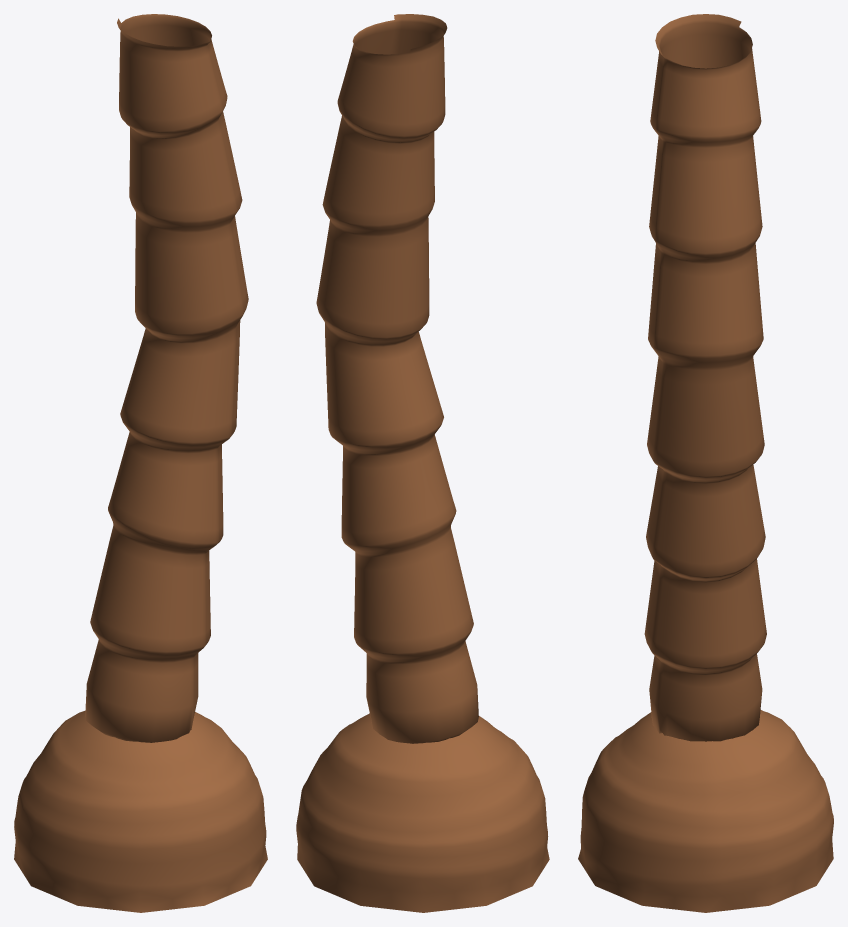
Rendered from basePalma.obj.
The picture shows the model from 3 angles, left to right: view 1: azimuth 30°, elevation 25°; view 2: azimuth 150°, elevation 25°; view 3: azimuth 270°, elevation 25°; orthographic projection.
Bounding box in the file's own units: 4.75 × 17.11 × 4.74.
1 material, 1 textured.
